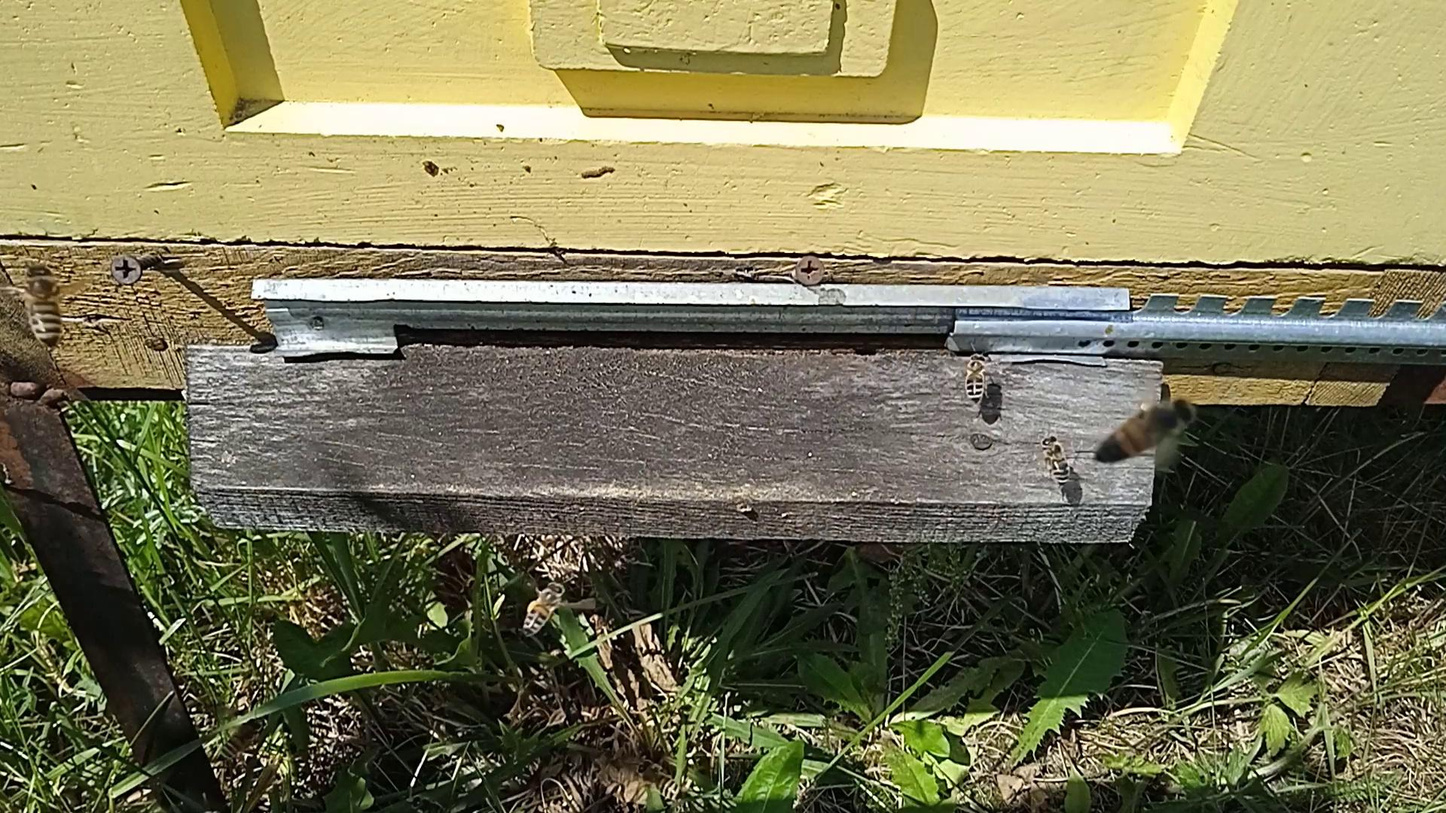worker-bee: (1094, 403, 1193, 461), (24, 264, 65, 346), (522, 580, 566, 635), (217, 717, 262, 763), (1038, 432, 1072, 485), (636, 759, 682, 798), (962, 351, 992, 403)
